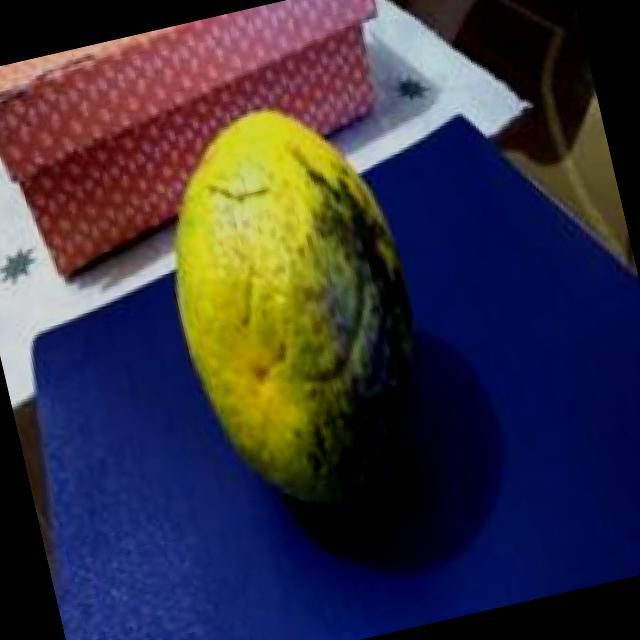Rotten_Orange: (85, 88, 488, 544)
